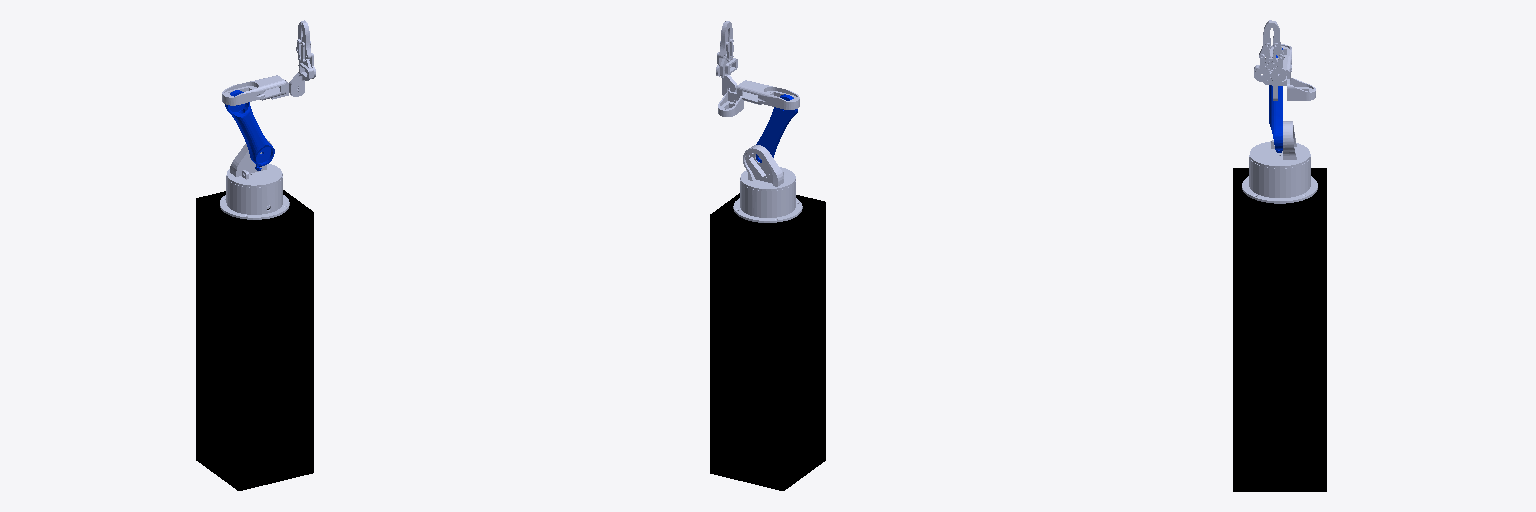
robot.urdf — mums_assistant:
<?xml version="1.0" encoding="utf-8" ?>

<robot name="mums_assistant">
    <!-- world -->
    <link name="world"/>

    <joint name="joint_0" type="fixed">
        <origin rpy="0 0 0" xyz="0.0 0.0 0.0"/>
        <parent link="world"/>
        <child link="mums_assistant_pedestal_link"/>
    </joint>

    <link name="mums_assistant_pedestal_link">
        <visual>
        <origin xyz="0 0 0.25"/>
        <geometry>
            <box size="0.15 0.15 0.5"/>
        </geometry>
        <material name="pedestal_color">
            <color rgba="0 0 0 1"/>
        </material>
        </visual>
        <collision>
        <origin xyz="0 0 0.25"/>
        <geometry>
            <box size="0.15 0.15 0.5"/>
        </geometry>
        </collision>
        <inertial>
        <mass value="500"/>
        <origin rpy="0 0 0" xyz="0 0 0"/>
        <inertia ixx="0.001" ixy="0" ixz="0" iyy="0.001" iyz="0" izz="0.001"/>
        </inertial>
    </link>

    <joint name="ma_to_pedestal" type="fixed">
        <parent link="world"/>
        <child link="base_link"/>
        <origin rpy="0 0 0" xyz="0.0 0.0 0.5"/>
    </joint>

    <link name="base_link">
        <inertial>
            <origin xyz="0 0 0" rpy="0 0 0" />
            <mass value="10" />
            <inertia ixx="0.00013766" ixy="-1.2679E-08" ixz="-5.1003E-09" iyy="0.00012799" iyz="-3.914E-06" izz="0.00020798" />
        </inertial>

        <visual>
            <origin xyz="0 0 0" rpy="0 0 0" />
            <geometry>
                <mesh filename="package://mums_assistant/meshes/base_link.STL" />
            </geometry>
            <material name="">
                <color rgba="0.79216 0.81961 0.93333 1" />
            </material>
        </visual>
        <collision>
            <origin xyz="0 0 0" rpy="0 0 0" />
            <geometry>
                <mesh filename="package://mums_assistant/meshes/base_link.STL" />
            </geometry>
        </collision>
    </link>
    <link name="link_1">

        <inertial>
            <origin xyz="0.001372 0.0064346 0.017289" rpy="0 0 0" />
            <mass value="0.068038" />
            <inertia ixx="4.5018E-05" ixy="-6.4176E-07" ixz="-6.2428E-06" iyy="5.8133E-05" iyz="-5.1777E-06" izz="5.4676E-05" />
        </inertial>

        <visual>
            <origin xyz="0 0 0" rpy="0 0 0" />
            <geometry>
                <mesh filename="package://mums_assistant/meshes/link_1.STL" />
            </geometry>
            <material name="">
                <color rgba="0.79216 0.81961 0.93333 1" />
            </material>
        </visual>
        <collision>
            <origin xyz="0 0 0" rpy="0 0 0" />
            <geometry>
                <mesh filename="package://mums_assistant/meshes/link_1.STL" />
            </geometry>
        </collision>
    </link>
    <joint name="joint_1" type="revolute">
        <origin xyz="0 0 0.056" rpy="0 0 0" />
        <parent link="base_link" />
        <child link="link_1" />
        <axis xyz="0 0 1" />
        <limit lower="-1.57" upper="1.57" effort="0.92" velocity="6.16" />
        <dynamics damping="0" friction="0" />
    </joint>
    <link name="link_2">

        <inertial>
            <origin xyz="-0.00013016 0.05859 0.0037688" rpy="0 0 0" />
            <mass value="0.064392" />
            <inertia ixx="0.00010704" ixy="-1.6405E-09" ixz="2.3498E-10" iyy="9.11E-06" iyz="2.3961E-07" izz="0.00011184" />
        </inertial>

        <visual>
            <origin xyz="0 0 0" rpy="0 0 0" />
            <geometry>
                <mesh filename="package://mums_assistant/meshes/link_2.STL" />
            </geometry>
            <material name="">
                <color rgba="0 0.2549 0.92157 1" />
            </material>
        </visual>
        <collision>
            <origin xyz="0 0 0" rpy="0 0 0" />
            <geometry>
                <mesh filename="package://mums_assistant/meshes/link_2.STL" />
            </geometry>
        </collision>
    </link>
    <joint name="joint_2" type="revolute">
        <origin xyz="0.013919 0 0.040276" rpy="1.5708 -0.4325 0" />
        <parent link="link_1" />
        <child link="link_2" />
        <axis xyz="0 0 1" />
        <limit lower="-1.57" upper="1.57" effort="0.92" velocity="6.16" />
        <dynamics damping="0" friction="0" />
    </joint>
    <link name="link_3">

        <inertial>
            <origin xyz="0.039285 2.7844E-05 -0.011409" rpy="0 0 0" />
            <mass value="0.050268" />
            <inertia ixx="9.2868E-06" ixy="-6.9582E-08" ixz="2.8754E-07" iyy="5.4601E-05" iyz="5.3527E-11" izz="5.8149E-05" />
        </inertial>

        <visual>
            <origin xyz="0 0 0" rpy="0 0 0" />
            <geometry>
                <mesh filename="package://mums_assistant/meshes/link_3.STL" />
            </geometry>
            <material name="">
                <color rgba="0.79216 0.81961 0.93333 1" />
            </material>
        </visual>
        <collision>
            <origin xyz="0 0 0" rpy="0 0 0" />
            <geometry>
                <mesh filename="package://mums_assistant/meshes/link_3.STL" />
            </geometry>
        </collision>
    </link>
    <joint name="joint_3" type="revolute">
        <origin xyz="0 0.12 0" rpy="0 0 -0.41891" />
        <parent link="link_2" />
        <child link="link_3" />
        <axis xyz="0 0 -1" />
        <limit lower="-1.57" upper="1.57" effort="0.92" velocity="6.16" />
        <dynamics damping="0" friction="0" />
    </joint>
    <link name="link_4">

        <inertial>
            <origin xyz="-0.0052507 0.0052786 0.017806" rpy="0 0 0" />
            <mass value="0.016499" />
            <inertia ixx="5.0238E-06" ixy="5.8794E-09" ixz="5.7259E-07" iyy="3.9123E-06" iyz="-5.0337E-09" izz="2.6108E-06" />
        </inertial>

        <visual>
            <origin xyz="0 0 0" rpy="0 0 0" />
            <geometry>
                <mesh filename="package://mums_assistant/meshes/link_4.STL" />
            </geometry>
            <material name="">
                <color rgba="0.79216 0.81961 0.93333 1" />
            </material>
        </visual>
        <collision>
            <origin xyz="0 0 0" rpy="0 0 0" />
            <geometry>
                <mesh filename="package://mums_assistant/meshes/link_4.STL" />
            </geometry>
        </collision>
    </link>
    <joint name="joint_4" type="revolute">
        <origin xyz="0.089722 -0.0051 -0.0115" rpy="0 1.5695 -0.013594" />
        <parent link="link_3" />
        <child link="link_4" />
        <axis xyz="0.0013041 0.013594 0.99991" />
        <limit lower="-1.57" upper="1.57" effort="0.098" velocity="8.73" />
        <dynamics damping="0" friction="0" />
    </joint>
    <link name="link_5">

        <inertial>
            <origin xyz="0.0058154 0.023551 0.015976" rpy="0 0 0" />
            <mass value="0.015721" />
            <inertia ixx="8.1159E-06" ixy="-1.3638E-06" ixz="-3.5027E-07" iyy="2.5603E-06" iyz="-1.4286E-06" izz="7.2474E-06" />
        </inertial>

        <visual>
            <origin xyz="0 0 0" rpy="0 0 0" />
            <geometry>
                <mesh filename="package://mums_assistant/meshes/link_5.STL" />
            </geometry>
            <material name="">
                <color rgba="0.79216 0.81961 0.93333 1" />
            </material>
        </visual>
        <collision>
            <origin xyz="0 0 0" rpy="0 0 0" />
            <geometry>
                <mesh filename="package://mums_assistant/meshes/link_5.STL" />
            </geometry>
        </collision>
    </link>
    <joint name="joint_5" type="revolute">
        <origin xyz="-0.0079737 0.0053658 0.027968" rpy="-1.4733 -1.5571 1.4752" />
        <parent link="link_4" />
        <child link="link_5" />
        <axis xyz="0 0 1" />
        <limit lower="-1.57" upper="1.57" effort="0.098" velocity="8.73" />
        <dynamics damping="0" friction="0" />
    </joint>
    <link name="gripper_link_1">

        <inertial>
            <origin xyz="0.0053455 0.039496 0.0094822" rpy="0 0 0" />
            <mass value="0.0096366" />
            <inertia ixx="2.2199E-06" ixy="-2.3834E-07" ixz="-1.3995E-11" iyy="2.2636E-07" iyz="-1.1442E-12" izz="2.37E-06" />
        </inertial>

        <visual>
            <origin xyz="0 0 0" rpy="0 0 0" />
            <geometry>
                <mesh filename="package://mums_assistant/meshes/gripper_link_1.STL" />
            </geometry>
            <material name="">
                <color rgba="0.79216 0.81961 0.93333 1" />
            </material>
        </visual>
        <collision>
            <origin xyz="0 0 0" rpy="0 0 0" />
            <geometry>
                <mesh filename="package://mums_assistant/meshes/gripper_link_1.STL" />
            </geometry>
        </collision>
    </link>
    <joint name="gripper_joint_1" type="revolute">
        <origin xyz="0.003329 0.038 0.031999" rpy="-1.5708 1.569 -1.5707" />
        <parent link="link_5" />
        <child link="gripper_link_1" />
        <axis xyz="0 0 -1" />
        <limit lower="-1.57" upper="0" effort="0.05" velocity="8.73" />
        <dynamics damping="0" friction="0" />
    </joint>
    <link name="gripper_link_2">

        <inertial>
            <origin xyz="-0.0024883 0.039374 0.0094684" rpy="0 0 0" />
            <mass value="0.0096366" />
            <inertia ixx="2.2128E-06" ixy="1.8017E-07" ixz="-1.3983E-11" iyy="2.3348E-07" iyz="1.1801E-12" izz="2.37E-06" />
        </inertial>

        <visual>
            <origin xyz="0 0 0" rpy="0 0 0" />
            <geometry>
                <mesh filename="package://mums_assistant/meshes/gripper_link_2.STL" />
            </geometry>
            <material name="">
                <color rgba="0.79216 0.81961 0.93333 1" />
            </material>
        </visual>
        <collision>
            <origin xyz="0 0 0" rpy="0 0 0" />
            <geometry>
                <mesh filename="package://mums_assistant/meshes/gripper_link_2.STL" />
            </geometry>
        </collision>
    </link>
    <joint name="gripper_joint_2" type="revolute">
        <origin xyz="0.0033427 0.038 0.0049991" rpy="-1.5707 1.5689 -1.5689" />
        <parent link="link_5" />
        <child link="gripper_link_2" />
        <axis xyz="0 0 1" />
        <limit lower="-1.57" upper="0" effort="0.05" velocity="8.73" />
        <dynamics damping="0" friction="0" />
        <!-- <mimic joint="gripper_joint_1" multiplier="1" offset="0" /> -->
    </joint>

    <transmission name="trans_joint_1">
        <type>transmission_interface/SimpleTransmission</type>
        <joint name="joint_1">
            <hardwareInterface>hardware_interface/PositionJointInterface</hardwareInterface>
        </joint>
        <actuator name="joint_1_motor">
            <hardwareInterface>hardware_interface/PositionJointInterface</hardwareInterface>
            <mechanicalReduction>1</mechanicalReduction>
        </actuator>
    </transmission>
    <transmission name="trans_joint_2">
        <type>transmission_interface/SimpleTransmission</type>
        <joint name="joint_2">
            <hardwareInterface>hardware_interface/PositionJointInterface</hardwareInterface>
        </joint>
        <actuator name="joint_2_motor">
            <hardwareInterface>hardware_interface/PositionJointInterface</hardwareInterface>
            <mechanicalReduction>1</mechanicalReduction>
        </actuator>
    </transmission>
    <transmission name="trans_joint_3">
        <type>transmission_interface/SimpleTransmission</type>
        <joint name="joint_3">
            <hardwareInterface>hardware_interface/PositionJointInterface</hardwareInterface>
        </joint>
        <actuator name="joint_3_motor">
            <hardwareInterface>hardware_interface/PositionJointInterface</hardwareInterface>
            <mechanicalReduction>1</mechanicalReduction>
        </actuator>
    </transmission>
    <transmission name="trans_joint_4">
        <type>transmission_interface/SimpleTransmission</type>
        <joint name="joint_4">
            <hardwareInterface>hardware_interface/PositionJointInterface</hardwareInterface>
        </joint>
        <actuator name="joint_4_motor">
            <hardwareInterface>hardware_interface/PositionJointInterface</hardwareInterface>
            <mechanicalReduction>1</mechanicalReduction>
        </actuator>
    </transmission>
    <transmission name="trans_joint_5">
        <type>transmission_interface/SimpleTransmission</type>
        <joint name="joint_5">
            <hardwareInterface>hardware_interface/PositionJointInterface</hardwareInterface>
        </joint>
        <actuator name="joint_5_motor">
            <hardwareInterface>hardware_interface/PositionJointInterface</hardwareInterface>
            <mechanicalReduction>1</mechanicalReduction>
        </actuator>
    </transmission>
    <transmission name="trans_gripper_joint_1">
        <type>transmission_interface/SimpleTransmission</type>
        <joint name="gripper_joint_1">
            <hardwareInterface>hardware_interface/EffortJointInterface</hardwareInterface>
        </joint>
        <actuator name="gripper_joint_1_motor">
            <hardwareInterface>hardware_interface/EffortJointInterface</hardwareInterface>
            <mechanicalReduction>1</mechanicalReduction>
        </actuator>
    </transmission>
    <transmission name="trans_gripper_joint_2">
        <type>transmission_interface/SimpleTransmission</type>
        <joint name="gripper_joint_2">
            <hardwareInterface>hardware_interface/EffortJointInterface</hardwareInterface>
        </joint>
        <actuator name="gripper_joint_2_motor">
            <hardwareInterface>hardware_interface/EffortJointInterface</hardwareInterface>
            <mechanicalReduction>1</mechanicalReduction>
        </actuator>
    </transmission>

    <gazebo>
        <plugin name="gazebo_ros_control" filename="libgazebo_ros_control.so">
        </plugin>
    </gazebo>
    <gazebo>
        <plugin name="joint_state_publisher" filename="libgazebo_ros_joint_state_publisher.so">
            <jointName>joint_1, joint_2, joint_3, joint_4, joint_5, gripper_joint_1, gripper_joint_2</jointName>
        </plugin>
    </gazebo>

    <gazebo reference="mums_assistant_pedestal_link">
        <material>Gazebo/DarkGray</material>
    </gazebo>
    <gazebo reference="link_1">
        <selfCollide>true</selfCollide>
    </gazebo>
    <gazebo reference="link_2">
        <selfCollide>true</selfCollide>
    </gazebo>
    <gazebo reference="link_3">
        <selfCollide>true</selfCollide>
    </gazebo>
    <gazebo reference="link_4">
        <selfCollide>true</selfCollide>
    </gazebo>
    <gazebo reference="link_5">
        <selfCollide>true</selfCollide>
    </gazebo>
    <gazebo reference="gripper_link_1">
        <selfCollide>true</selfCollide>
    </gazebo>
    <gazebo reference="gripper_link_2">
        <selfCollide>true</selfCollide>
    </gazebo>

    <gazebo>
        <plugin name="gazebo_grasp_fix" filename="libgazebo_grasp_fix.so">
            <arm>
            <arm_name>arm</arm_name>
            <palm_link> link_5 </palm_link>
            <gripper_link> gripper_link_1 </gripper_link>
            <gripper_link> gripper_link_2 </gripper_link>
            </arm>
            <forces_angle_tolerance>100</forces_angle_tolerance>
            <update_rate>4</update_rate>
            <grip_count_threshold>4</grip_count_threshold>
            <max_grip_count>8</max_grip_count>
            <release_tolerance>0.005</release_tolerance>
            <disable_collisions_on_attach>false</disable_collisions_on_attach>
            <contact_topic>__default_topic__</contact_topic>
        </plugin>
    </gazebo>

</robot>

--- What the picture shows (computed from the rendered views, not written in the file) ---
3 views of the same robot in one strip: view 1: azimuth 30°, elevation 25°; view 2: azimuth 150°, elevation 25°; view 3: azimuth 270°, elevation 25° (orthographic).
Model mums_assistant with 10 links and 9 joints (7 revolute, 2 fixed), rooted at world, posed every joint at zero.
Visible links, largest first — view 1: mums_assistant_pedestal_link, base_link, link_2, link_1, link_3, link_5; view 2: mums_assistant_pedestal_link, base_link, link_1, link_3, link_2; view 3: mums_assistant_pedestal_link, base_link, link_1, link_2, gripper_link_1, gripper_link_2, link_4.
Boxes of the visible links, box(x1,y1,x2,y2) form: mums_assistant_pedestal_link: box(196, 190, 313, 490); base_link: box(220, 175, 289, 219); link_2: box(225, 90, 274, 170); link_1: box(227, 140, 282, 187); link_3: box(222, 75, 285, 105); link_5: box(289, 58, 313, 96); mums_assistant_pedestal_link: box(710, 193, 825, 490); base_link: box(733, 180, 802, 222); link_1: box(740, 145, 795, 190); link_3: box(737, 80, 799, 109); link_2: box(756, 94, 797, 162); mums_assistant_pedestal_link: box(1233, 168, 1326, 491); base_link: box(1242, 154, 1317, 203); link_1: box(1250, 121, 1309, 168); link_2: box(1269, 48, 1282, 152); gripper_link_1: box(1255, 20, 1271, 82); gripper_link_2: box(1270, 21, 1286, 82); link_4: box(1287, 78, 1315, 100).
Size in the robot's own frame: 0.1754 by 0.15 by 0.8347 metres.
8 mesh visuals loaded from 8 distinct referenced files (8 binary STL).
